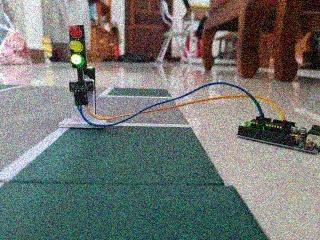green: (59, 14, 92, 73)
